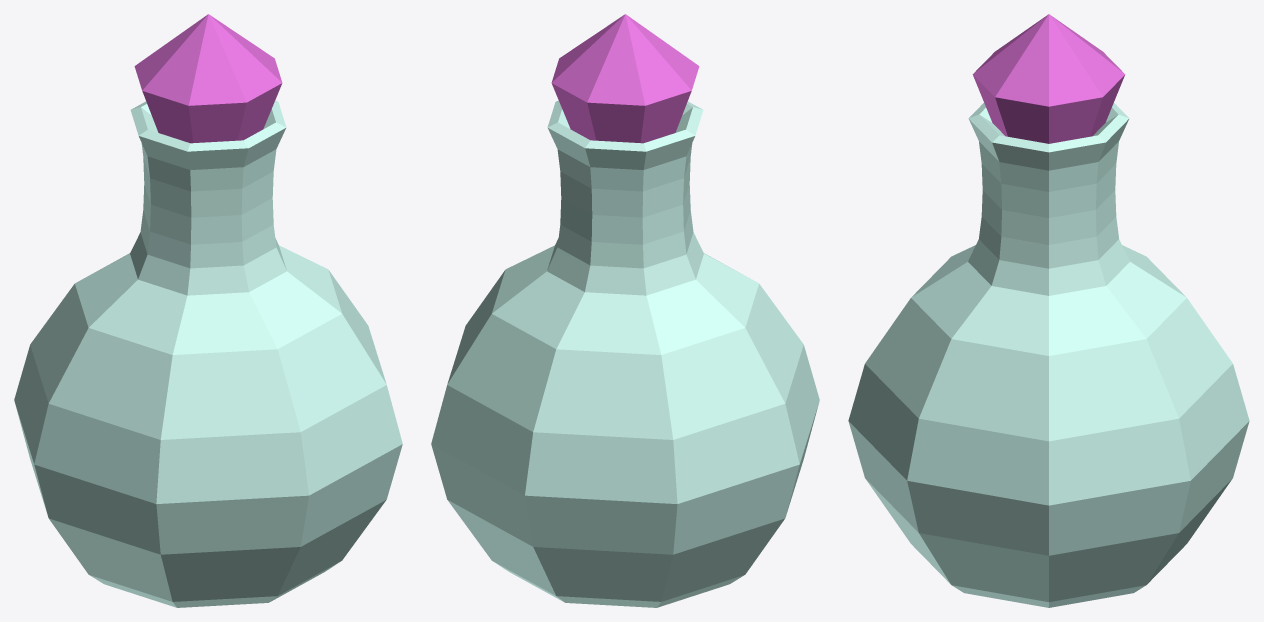
Rendered from Pocion.fbx.
The picture shows the model from 3 angles, left to right: view 1: azimuth 30°, elevation 25°; view 2: azimuth 150°, elevation 25°; view 3: azimuth 270°, elevation 25°; orthographic projection.
Visible parts, largest first — view 1: vidrio, gema; view 2: vidrio, gema; view 3: vidrio, gema.
Part boxes in pixels (x1,y1,x2,y2): vidrio: (14, 100, 402, 607); gema: (134, 14, 282, 143); vidrio: (431, 100, 819, 607); gema: (551, 14, 699, 143); vidrio: (848, 103, 1249, 607); gema: (972, 14, 1125, 143).
Size of the model in its own units: 351 by 524 by 351.
